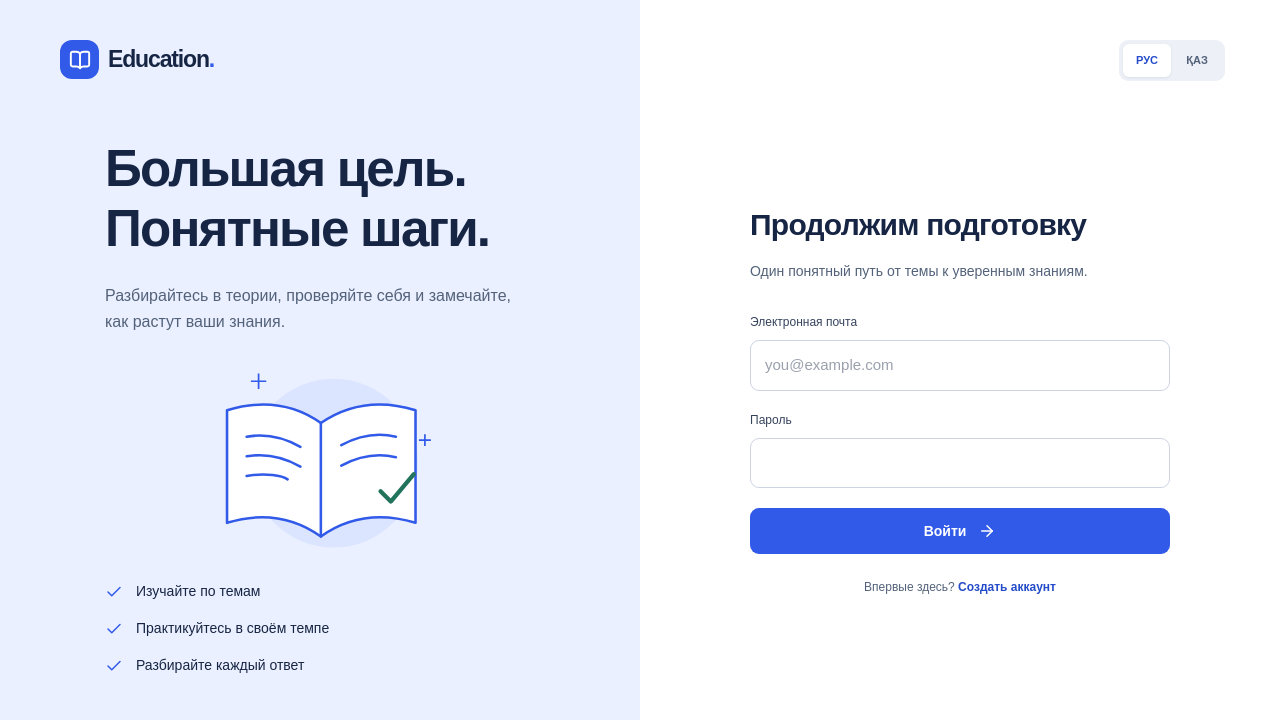
Test: student entry flows › keeps invalid credentials recoverable and prevents token storage
Step 1. Type "learner@example.org" into the field labelled "Электронная почта" → (960, 366), box [750,340,1170,391]
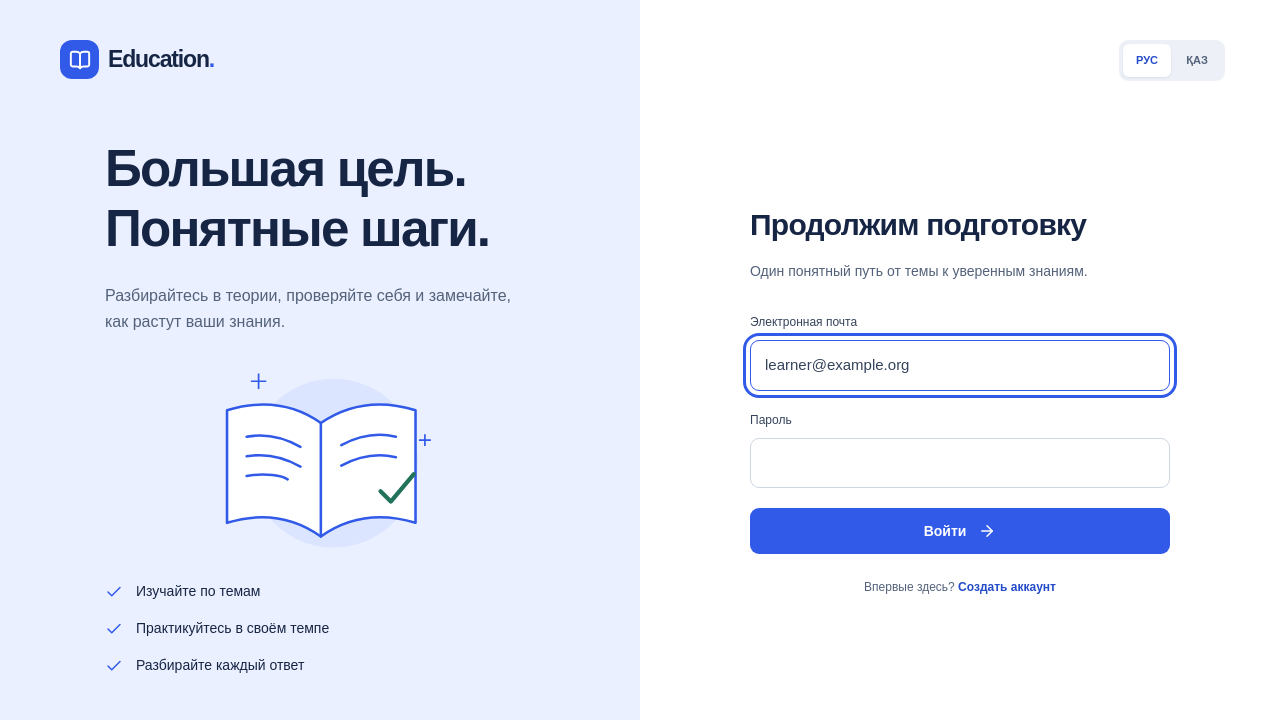
Step 2. Type "wrong-password" into the password field labelled "Пароль" → (960, 463), box [750,438,1170,488]
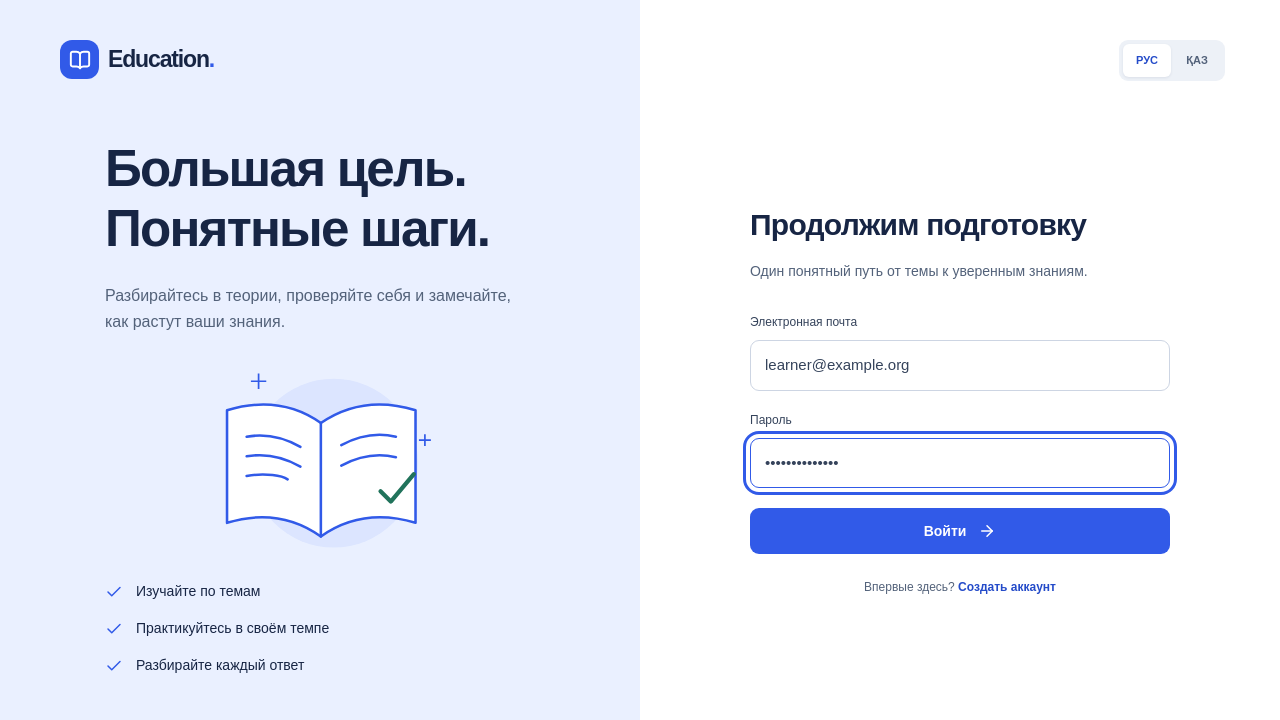
Step 3. Click the button "Войти" → (960, 531), box [750,508,1170,554]
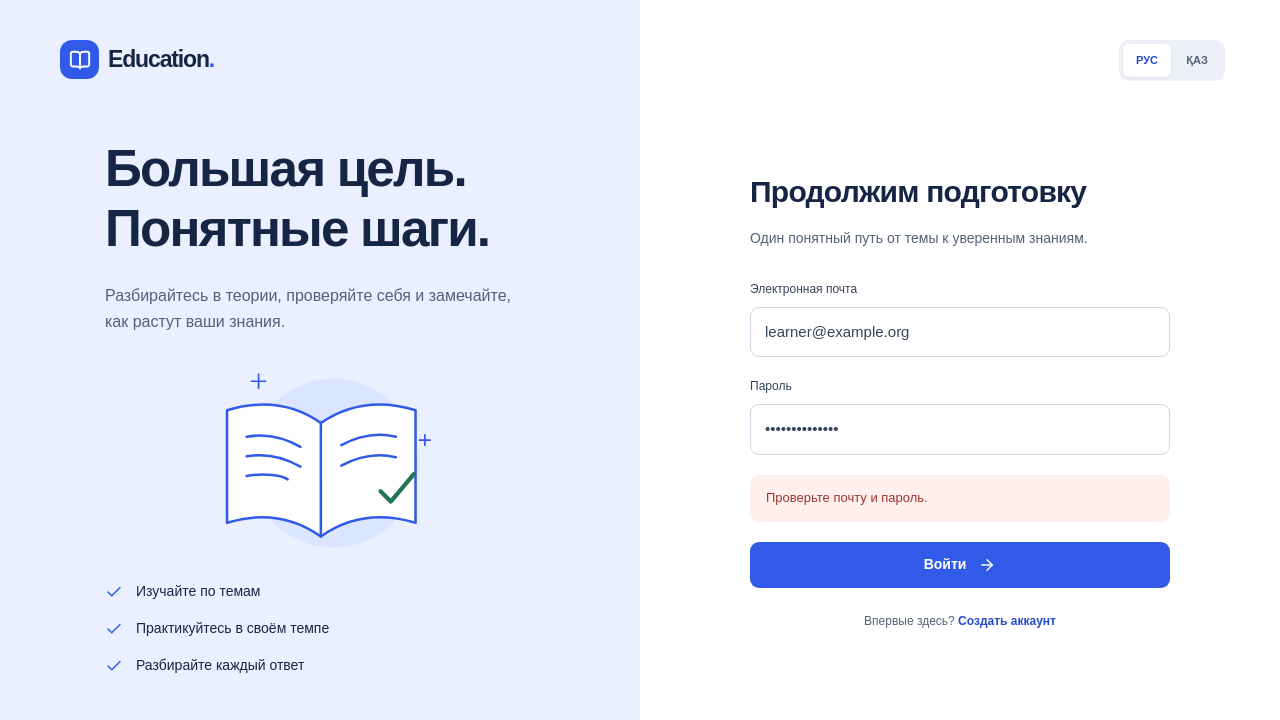
Expected: the button "Войти" is enabled, [750,542,1170,588]
Expected: the message shows "Проверьте почту и пароль", [766,490,928,505]
